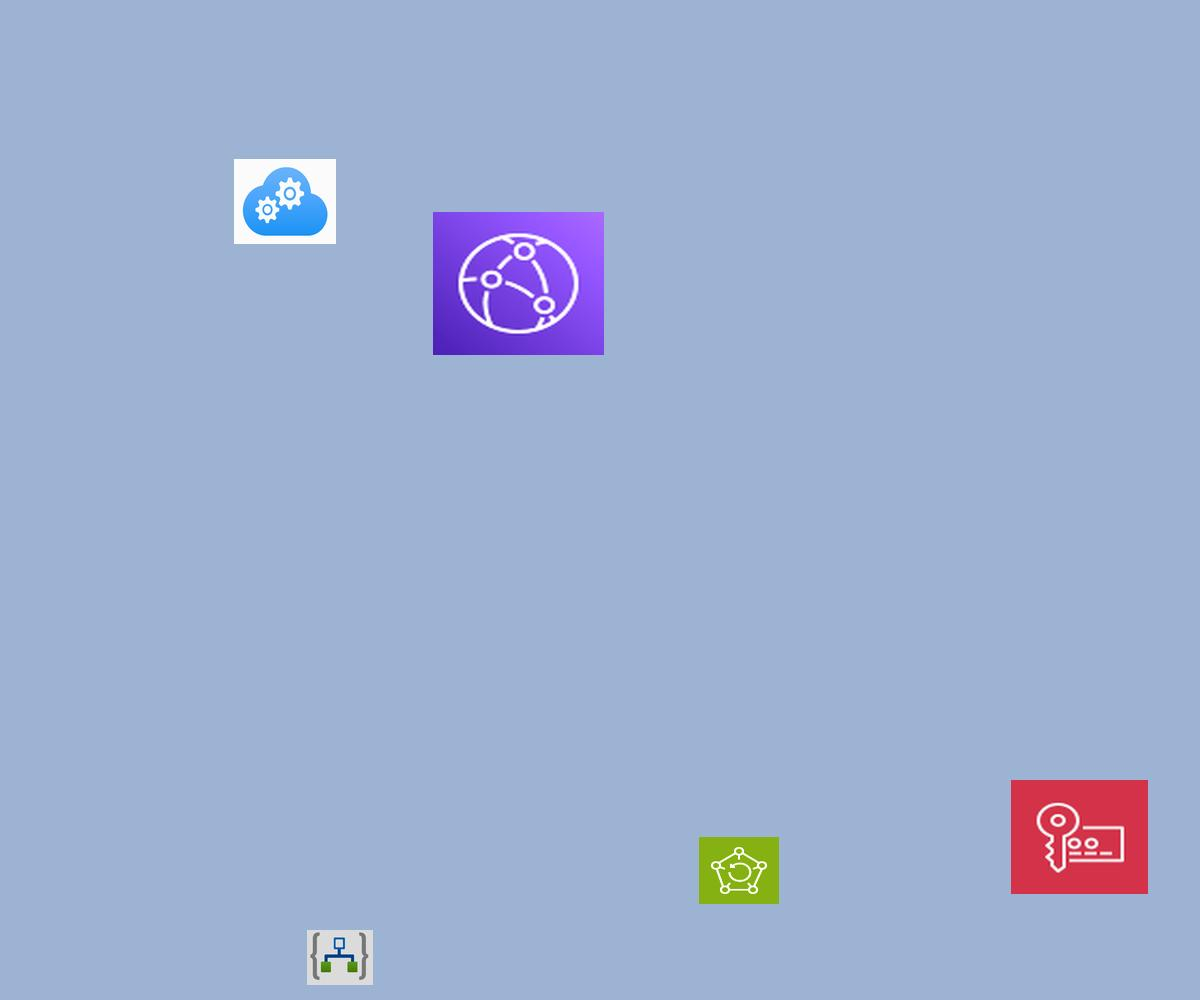AWS-Backup: (699, 837, 779, 904)
AWS-CloudFront: (433, 212, 604, 355)
AWS-Key-Management-Service: (1011, 780, 1148, 894)
Azure_cloud_services: (234, 159, 336, 244)
Azure_integration-204-Logic-Apps: (307, 930, 373, 985)
